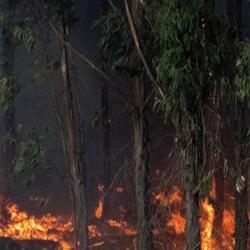fire: (2, 208, 56, 238), (201, 201, 235, 245)
